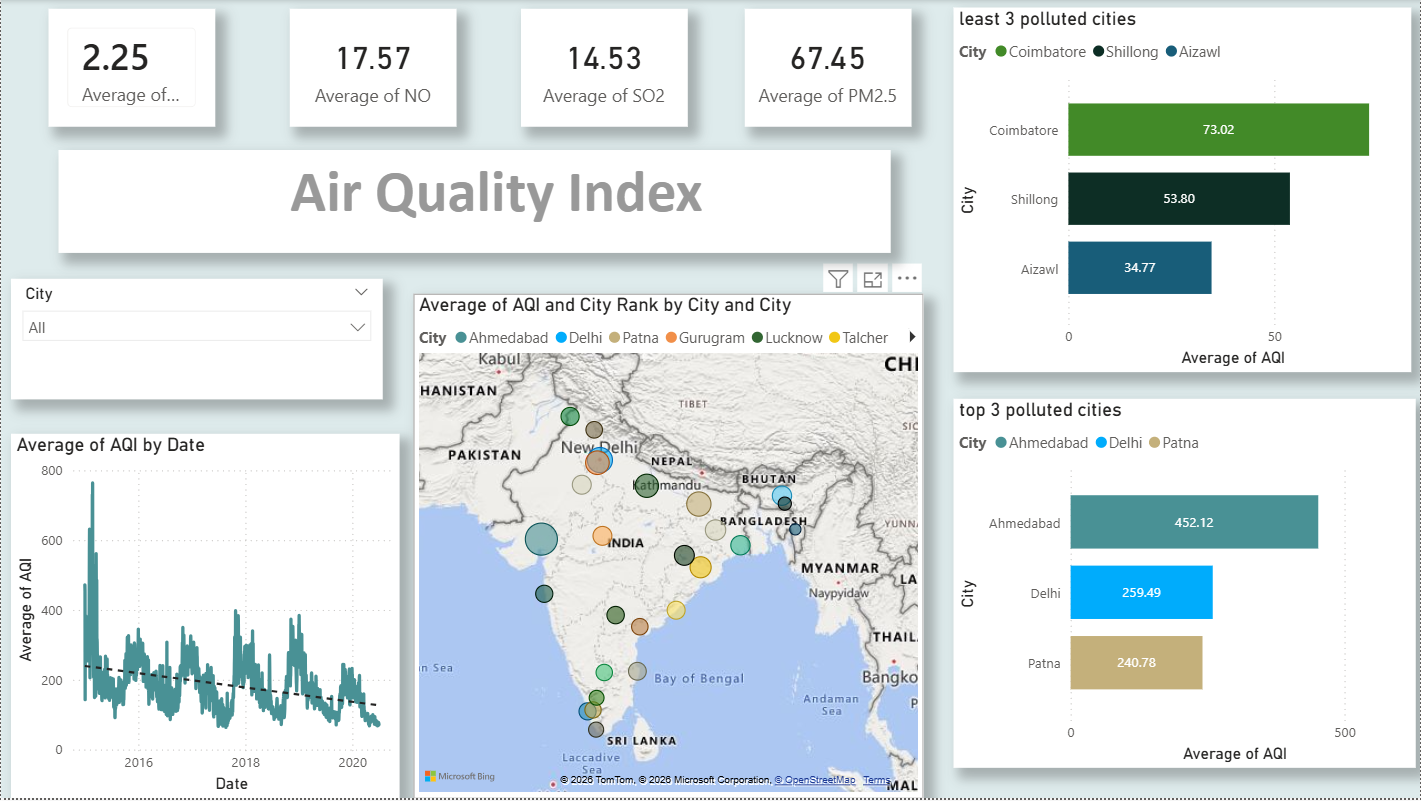

What the dashboard file says about the page in this screenshot:
{"tool":"powerbi","page":{"name":"Page 1","canvas":[1280,720],"ordinal":0},"visuals":[{"type":"lineChart","fields":{"Category":["city_day.Date.Variation.Date Hierarchy.Year"],"Y":["Avg(city_day.AQI)"]},"box":[8.8,391.2,350,328.8],"z":0},{"type":"slicer","fields":{"Values":["city_day.City"]},"box":[8.8,251.2,335,108.8],"z":1000},{"type":"barChart","title":"top 3 polluted cities","fields":{"Category":["city_day.City"],"Series":["city_day.City"],"Y":["Avg(city_day.AQI)"]},"box":[858.6,360,417.1,332.9],"z":2000},{"type":"barChart","title":"least 3 polluted cities","fields":{"Category":["city_day.City"],"Series":["city_day.City"],"Y":["Avg(city_day.AQI)"]},"box":[858.6,7.1,412.9,328.6],"z":3000},{"type":"cardVisual","fields":{"Data":["Avg(city_day.CO)"]},"box":[42.3,7.3,150,106.7],"z":4000},{"type":"card","fields":{"Values":["Avg(city_day.NO)"]},"box":[260,7.5,150,106.7],"z":5000},{"type":"card","fields":{"Values":["Avg(city_day.SO2)"]},"box":[469,7.3,150,106.7],"z":6000},{"type":"card","fields":{"Values":["Avg(city_day.PM2.5)"]},"box":[670.7,7.3,150,106.7],"z":7000},{"type":"map","fields":{"Category":["city_day.City"],"Series":["city_day.City"],"Size":["Avg(city_day.AQI)"]},"box":[371.7,265,460,455],"z":8000},{"type":"textbox","box":[52,135,750,93],"z":9000}]}

Visuals, with their boxes in screenshot pixels (x1, y1, x2, y2), scaled from the page's 1280x720 canvas onto the 1421x801 screenshot:
lineChart - city_day.Date.Variation.Date Hierarchy.Year x Avg(city_day.AQI): 10 435 398 800
slicer - city_day.City: 10 279 382 400
"top 3 polluted cities" barChart: 953 400 1416 771
"least 3 polluted cities" barChart: 953 8 1412 373
cardVisual - Avg(city_day.CO): 47 8 213 127
card - Avg(city_day.NO): 289 8 455 127
card - Avg(city_day.SO2): 521 8 687 127
card - Avg(city_day.PM2.5): 745 8 911 127
map - city_day.City x city_day.City: 413 295 923 800
textbox: 58 150 890 254
